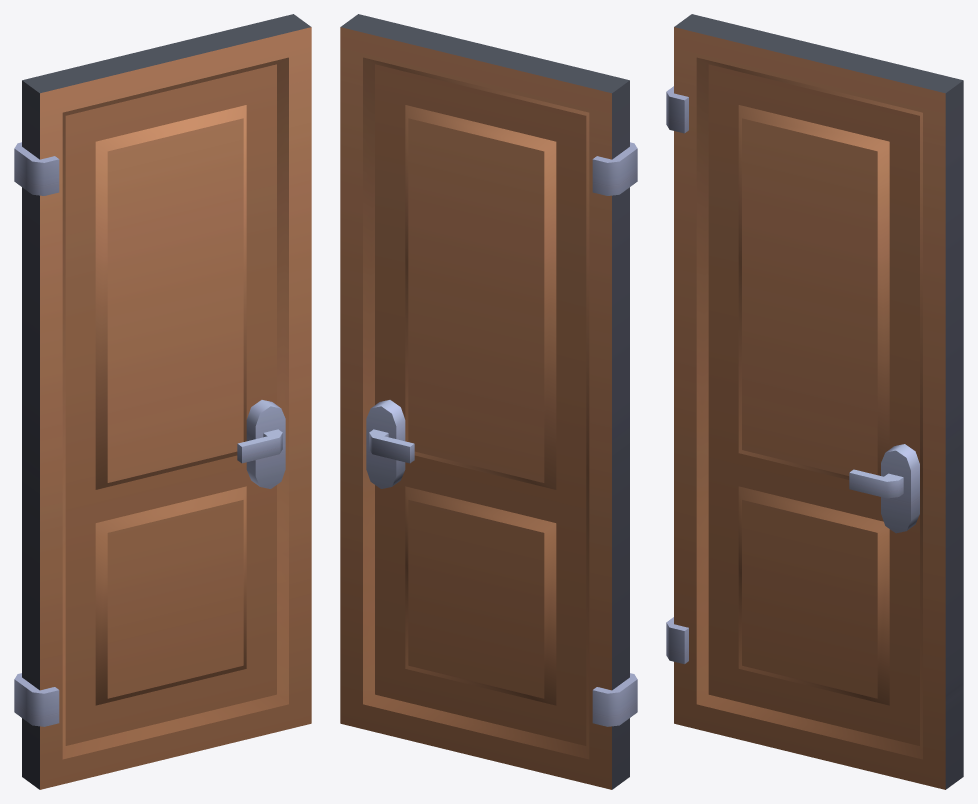
Rendered from door-country.glb.
3 renders of one model, left to right at view 1: azimuth 30°, elevation 25°; view 2: azimuth 150°, elevation 25°; view 3: azimuth 330°, elevation 25°, orthographic.
Visible parts, largest first — view 1: leaf; view 2: leaf; view 3: leaf.
Boxes of the visible parts, box(x1,y1,x2,y2) form: leaf: box(14, 14, 311, 789); leaf: box(340, 14, 637, 789); leaf: box(666, 14, 963, 789).
Bounding box in the file's own units: 0.8599 × 2.05 × 0.2382.
Materials: 1 (1 with a texture image).
